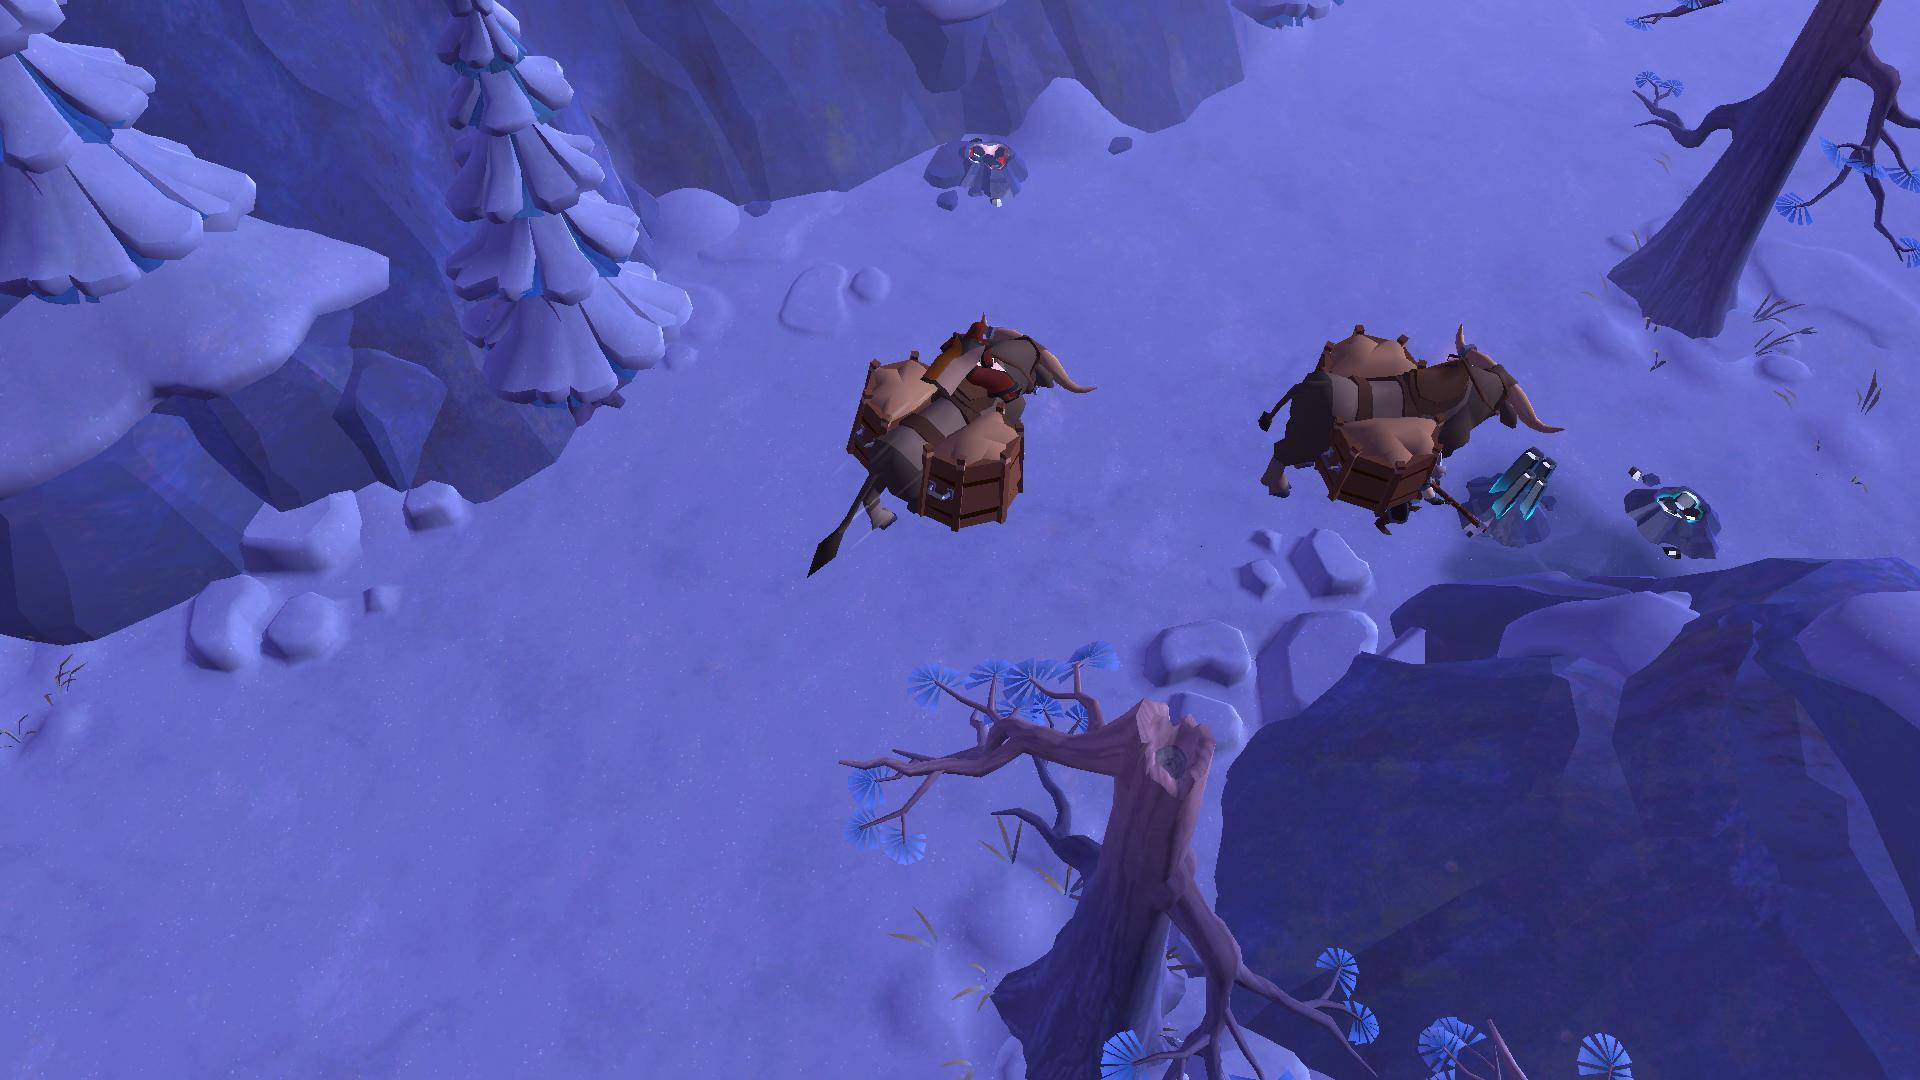ore_t4: (1480, 446, 1549, 526)
